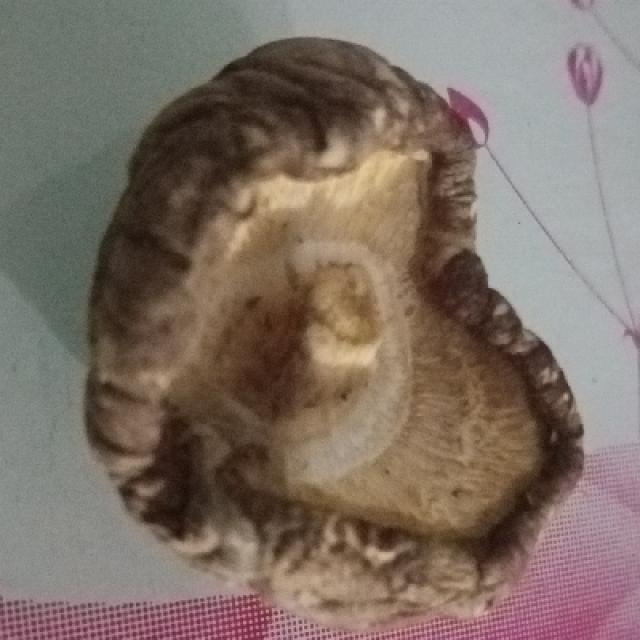Lentinus edodes: (81, 38, 585, 624)
